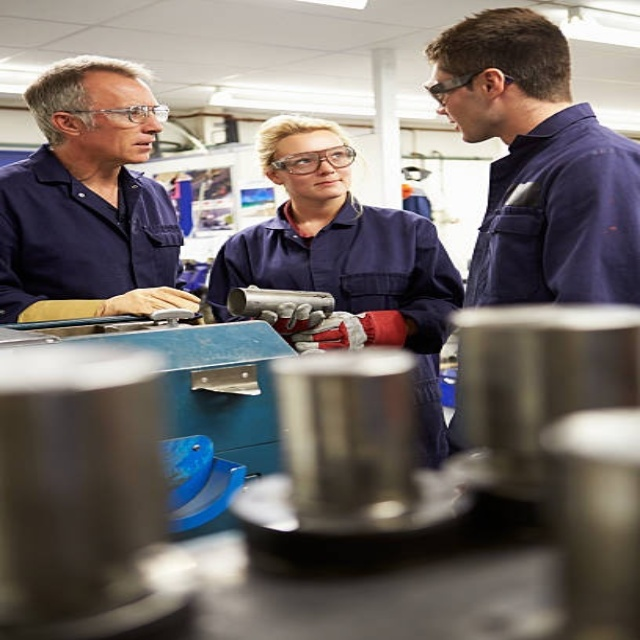Gafas: (417, 69, 497, 106), (265, 142, 356, 174), (61, 100, 176, 124)
Guantes: (13, 281, 205, 330), (298, 309, 406, 351), (256, 300, 328, 334)
Sin_mascara: (442, 112, 482, 140), (116, 135, 160, 160), (303, 175, 350, 193)
